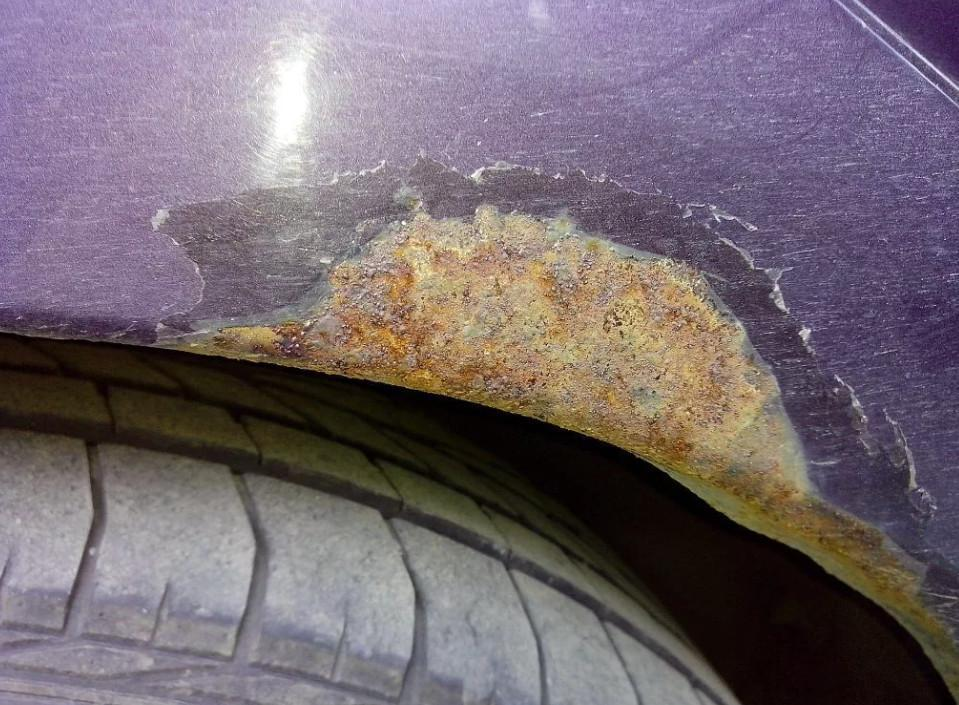corrosion: (153, 156, 959, 639)
